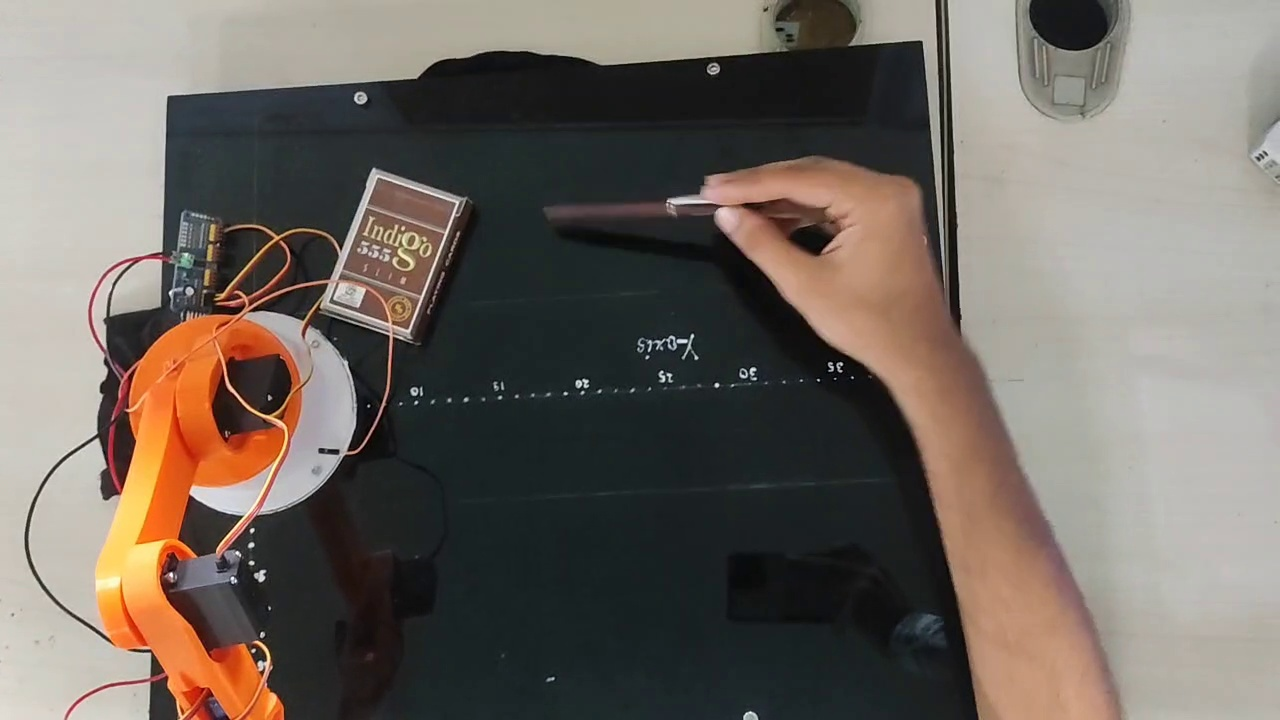BEX: (327, 175, 458, 331)
